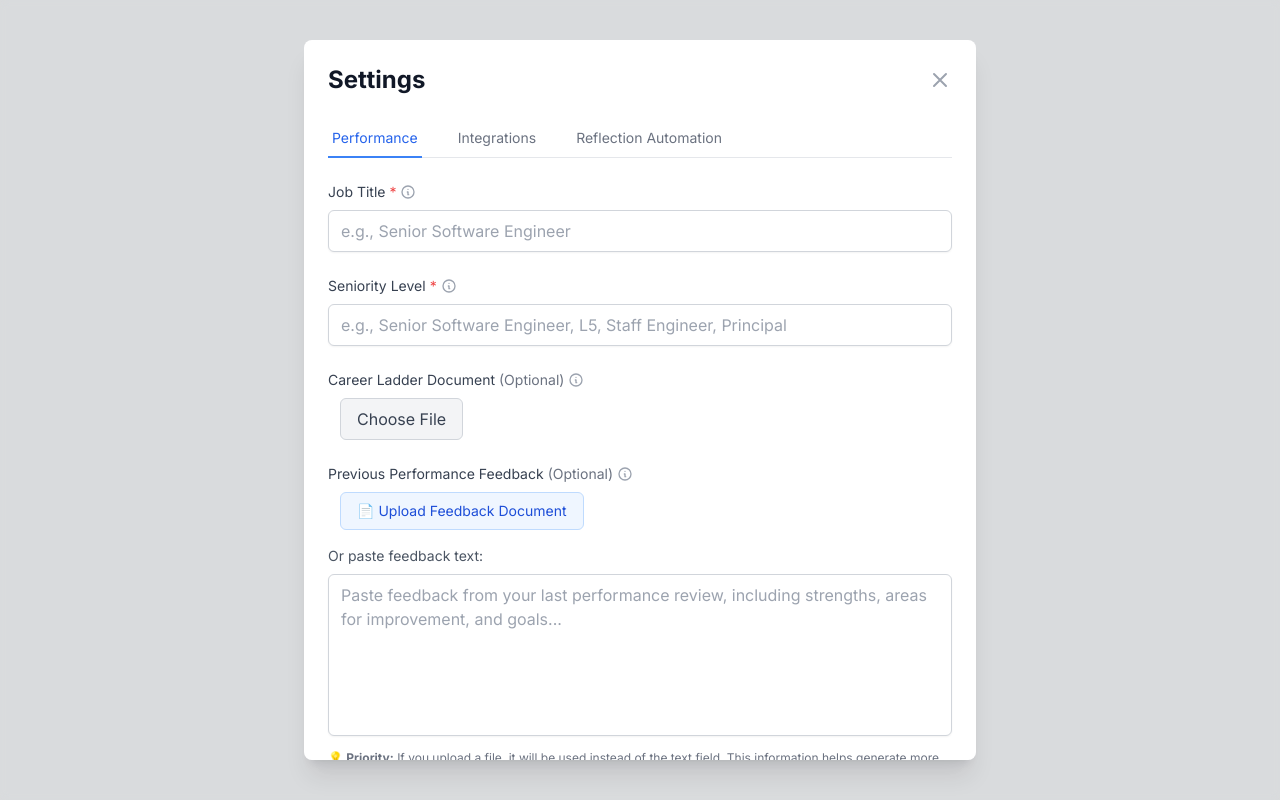
Test case: Settings Component › Error Handling › should display submit errors
Type "Developer" into the field labelled "Job Title *" at coordinates (640, 231), box [328,210,952,252]
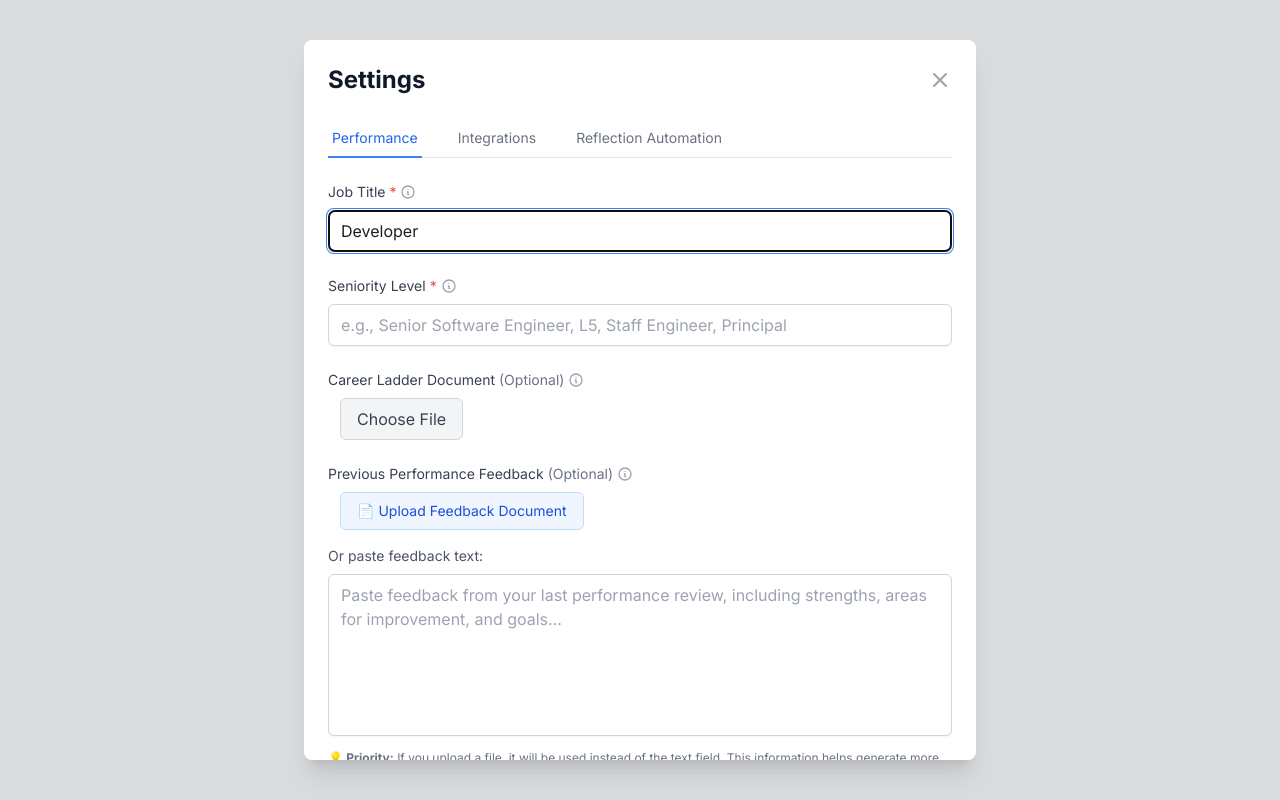
Type "Senior" into the field labelled "Seniority Level *" at coordinates (640, 325), box [328,304,952,346]
(page scrolled)
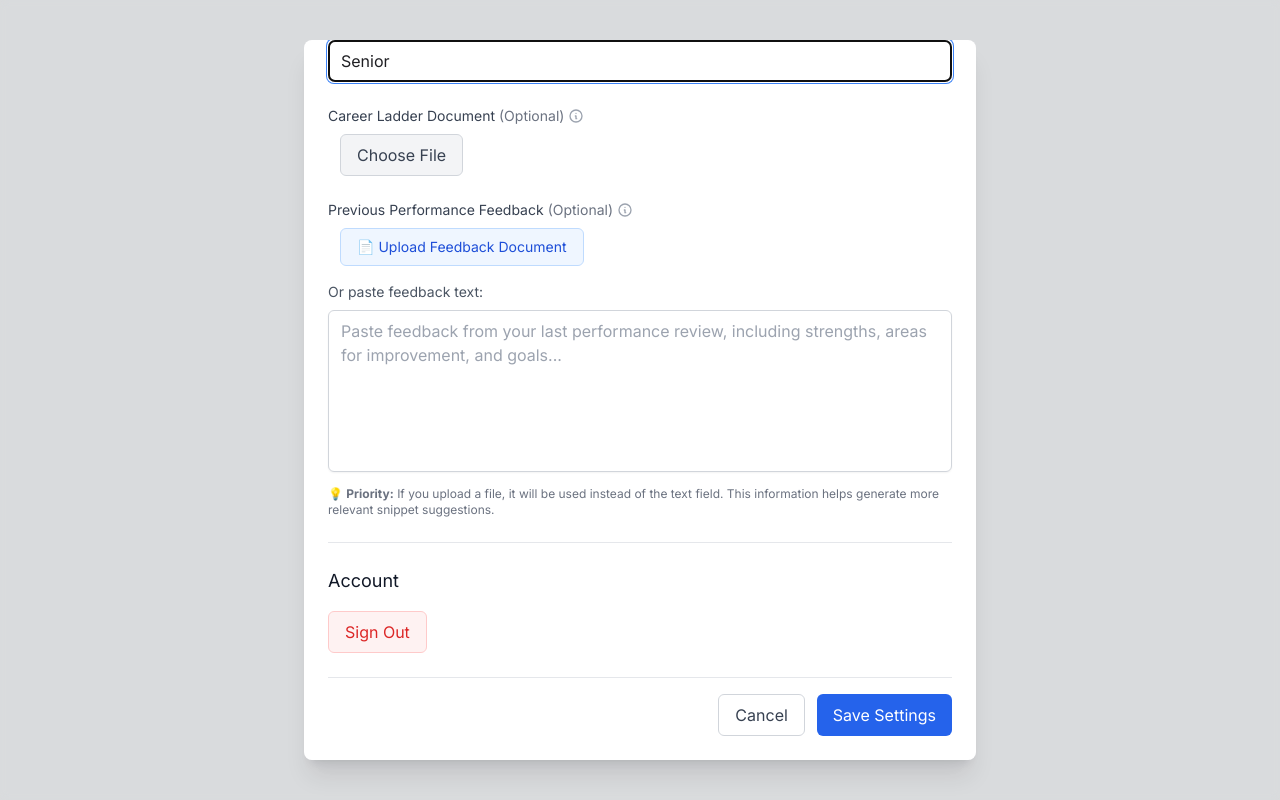
Click the button "Save Settings" at coordinates (884, 715), box [817,694,952,736]
(page scrolled)
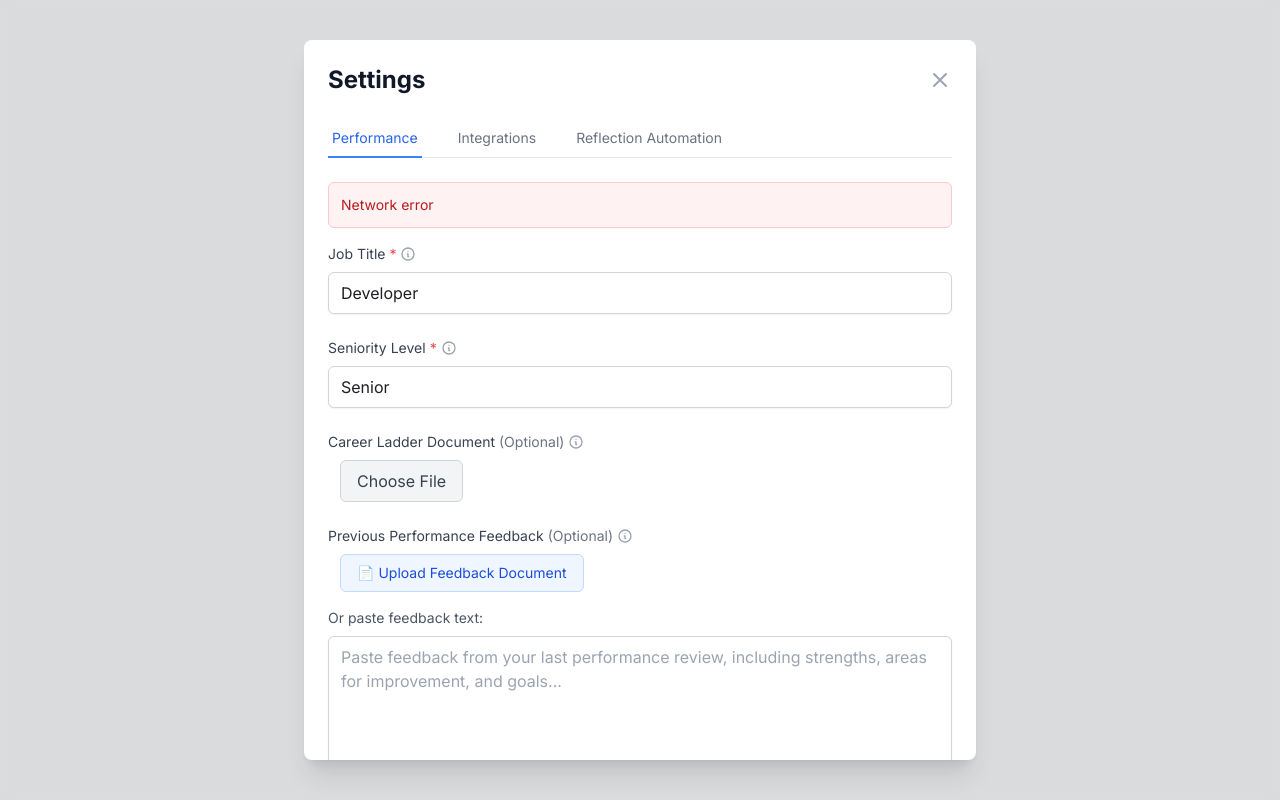
expect the text "Network error" is shown: met, box [341,196,434,213]
